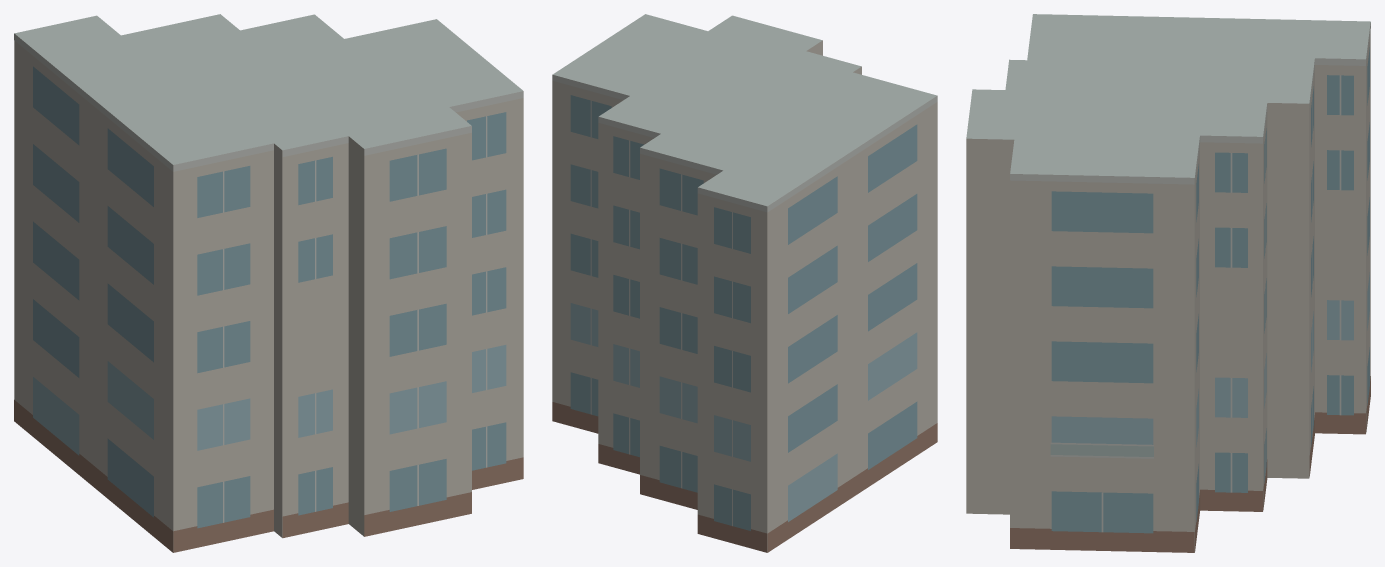
File: survey-upis-32620221.glb
The picture shows the model from 3 angles, left to right: view 1: azimuth 30°, elevation 25°; view 2: azimuth 150°, elevation 25°; view 3: azimuth 270°, elevation 25°; orthographic projection. The views are drawn at different scales.
Visible parts, largest first — view 1: survey-upis-32620221.tmp; view 2: survey-upis-32620221.tmp; view 3: survey-upis-32620221.tmp.
Part boxes in pixels (x1,y1,x2,y2): survey-upis-32620221.tmp: [14, 14, 523, 552]; survey-upis-32620221.tmp: [552, 14, 937, 552]; survey-upis-32620221.tmp: [966, 14, 1370, 552].
Size of the model in its own units: 12.94 by 13.8 by 13.5.
